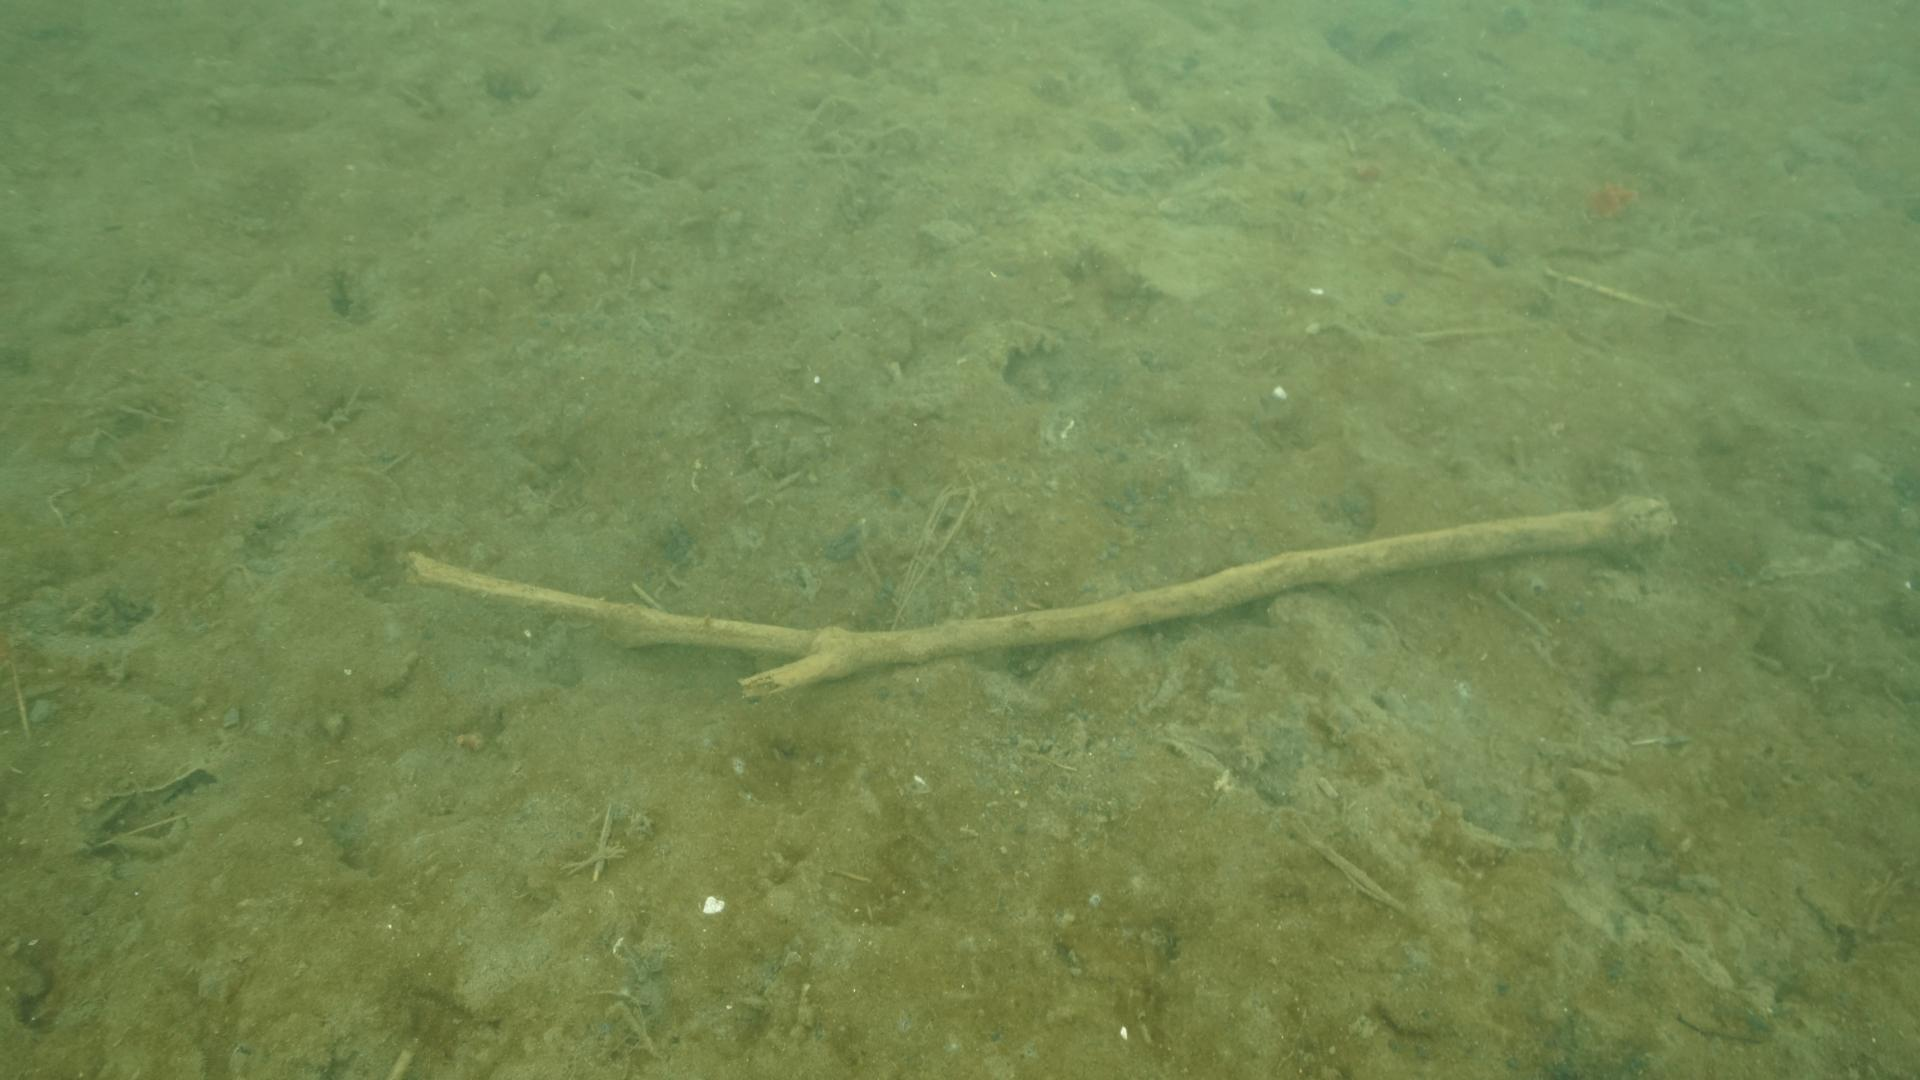wood: (405, 495, 1668, 702)
